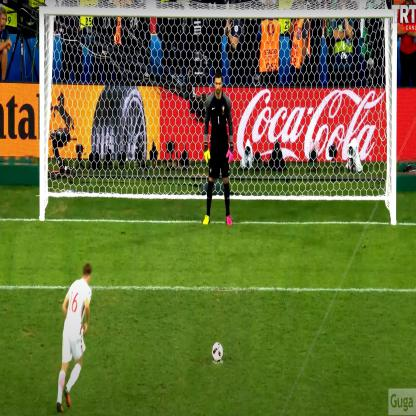penalty kick: (43, 2, 252, 416)
